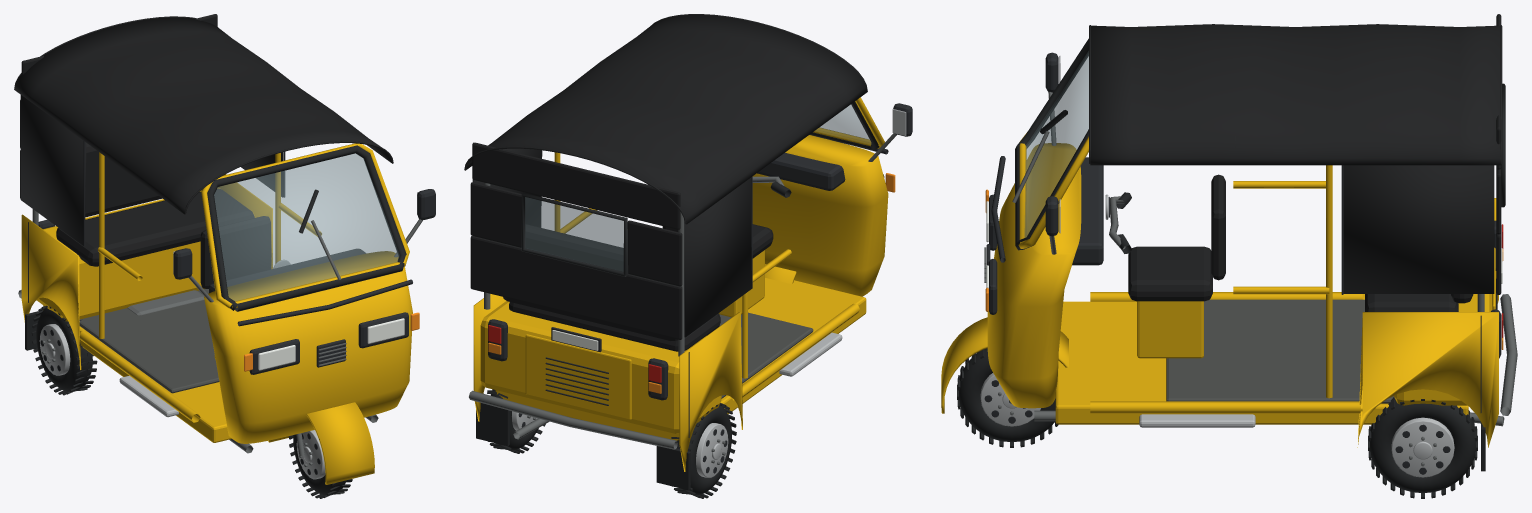
Rendered from keke_tvs_lod0.glb.
3 views of the same model, side by side, from view 1: azimuth 30°, elevation 25°; view 2: azimuth 150°, elevation 25°; view 3: azimuth 270°, elevation 25° (orthographic). The views are drawn at different scales.
Parts seen in each view (by area): view 1: Body, Fork, Wheel_Rear_Left, Wheel_Front; view 2: Body, Wheel_Rear_Left, Wheel_Rear_Right; view 3: Body, Wheel_Rear_Right, Wheel_Front, Fork.
Part boxes in pixels (x1,y1,x2,y2): Body: [14, 14, 435, 453]; Fork: [268, 402, 374, 484]; Wheel_Rear_Left: [31, 305, 97, 395]; Wheel_Front: [288, 430, 352, 498]; Body: [464, 14, 912, 490]; Wheel_Rear_Left: [671, 403, 736, 498]; Wheel_Rear_Right: [487, 389, 545, 453]; Body: [984, 14, 1517, 471]; Wheel_Rear_Right: [1368, 397, 1477, 498]; Wheel_Front: [957, 348, 1058, 447]; Fork: [941, 317, 1068, 413].
Size of the model in its own units: 1.62 by 1.92 by 2.58.
